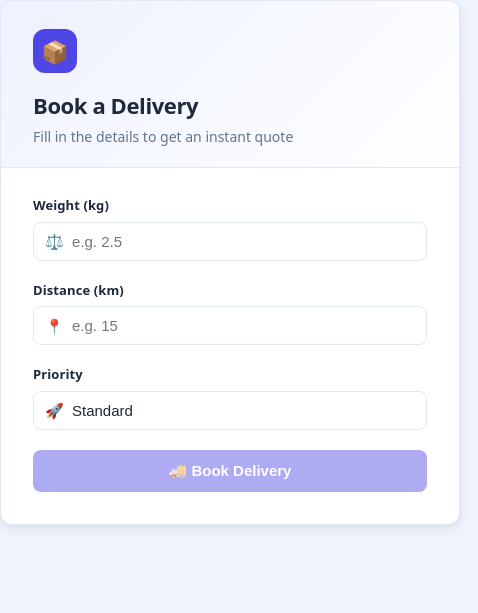
Test: BookDelivery › shows validation error when weight is 0
Step 1. Type "0" into the number field labelled "Weight (kg)" → (230, 241), box x1=33 y1=222 x2=427 y2=260
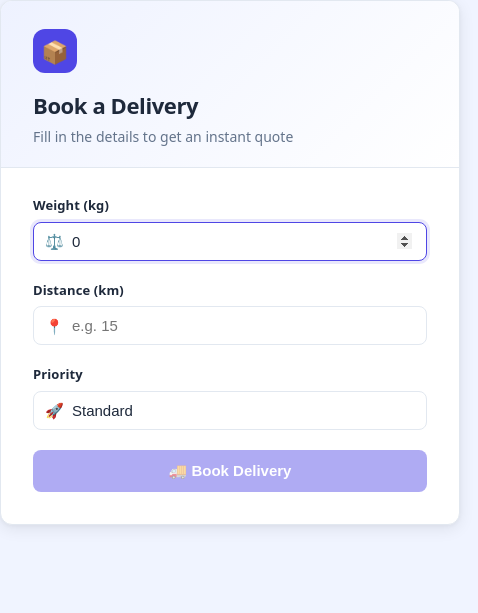
Step 2. Type "10" into the number field labelled "Distance (km)" → (230, 326), box x1=33 y1=306 x2=427 y2=345
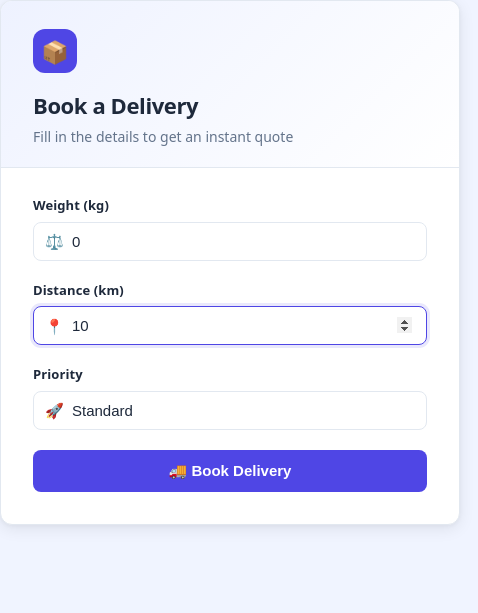
Step 3. Click the button "🚚 Book Delivery" → (230, 470), box x1=33 y1=450 x2=427 y2=492
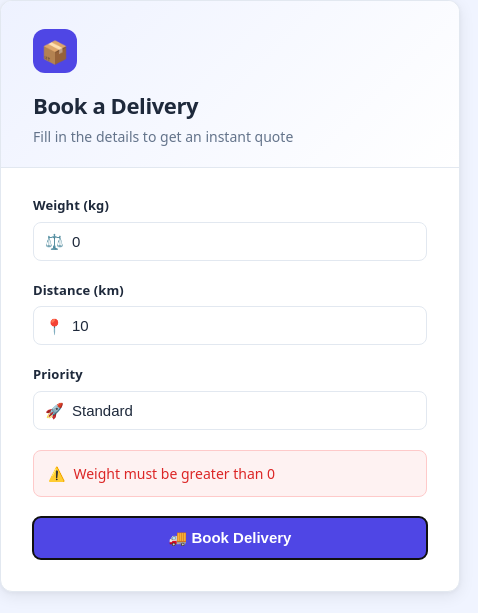
Check: the message reads "Weight must be greater than 0", box x1=74 y1=464 x2=275 y2=482
